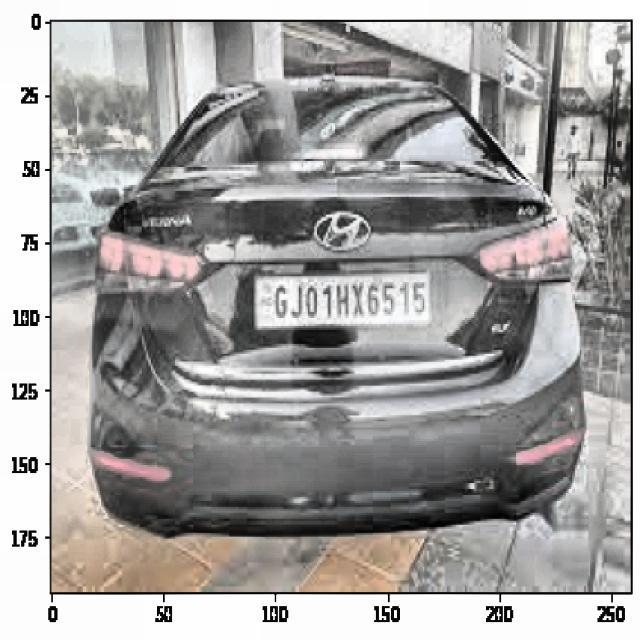license_plate: (255, 276, 432, 327)
